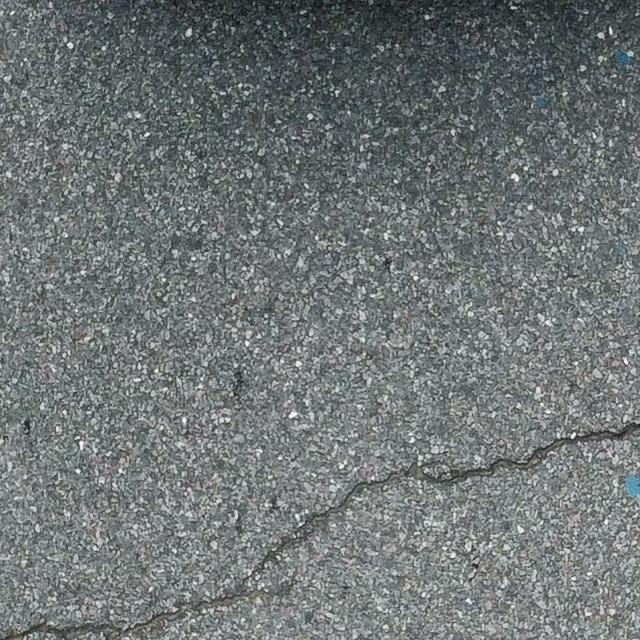TransverseCrack: (5, 421, 640, 638)
